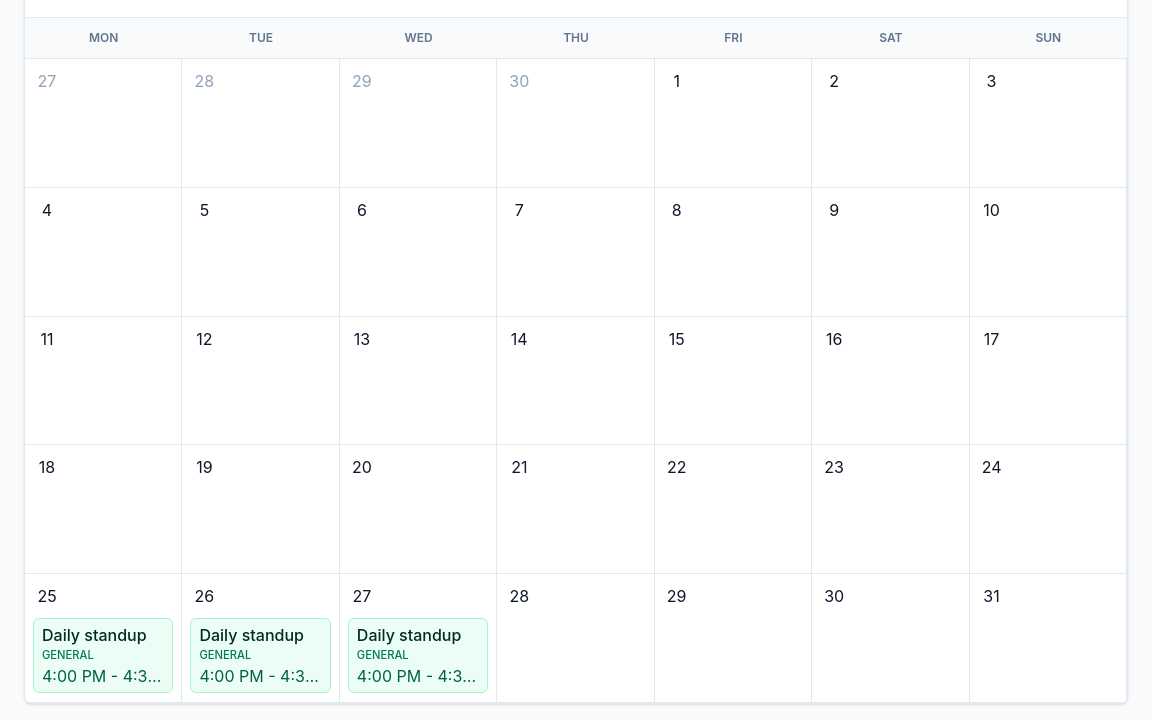
Recurring events - integration › editing this occurrence creates an exception without changing the full series
(page scrolled)
Step 1. Click the button with aria-label "Edit event Daily standup" → (103, 656), box 33,618 -> 173,693
(page scrolled)
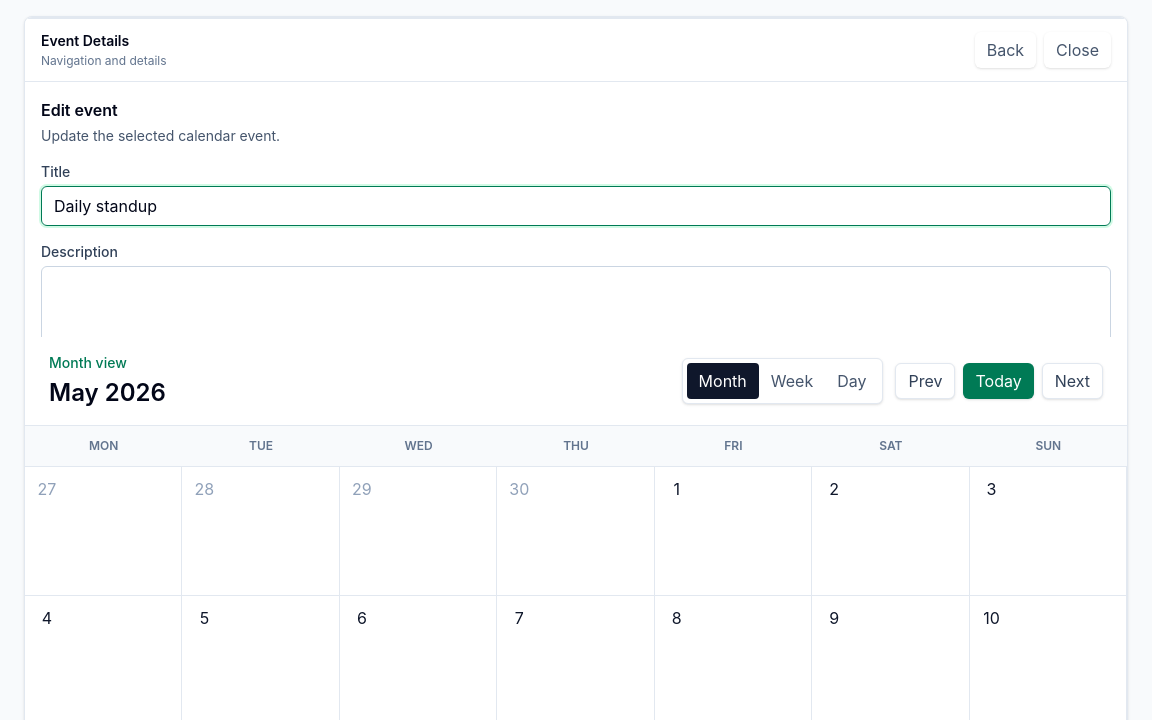
Step 2. Replace the text in the field labelled "Title" with "One-off standup" → (576, 206), box 41,186 -> 1111,226
(page scrolled)
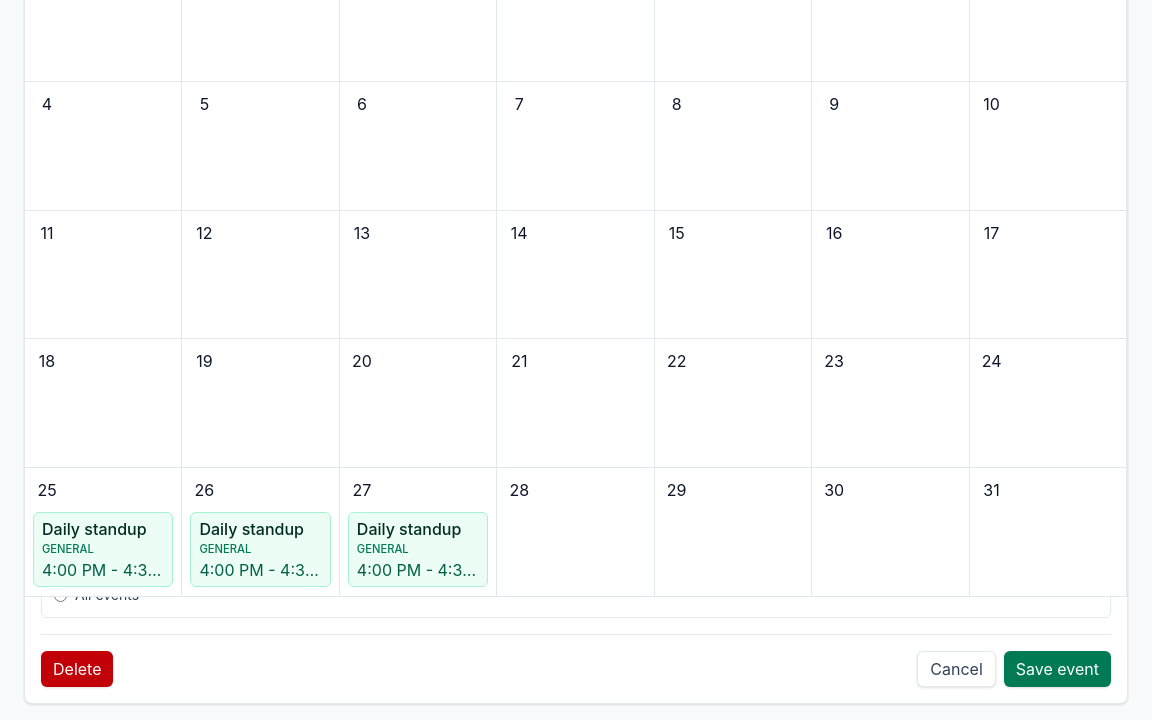
Step 3. Click the button "Save event" → (1057, 669), box 1004,651 -> 1111,687
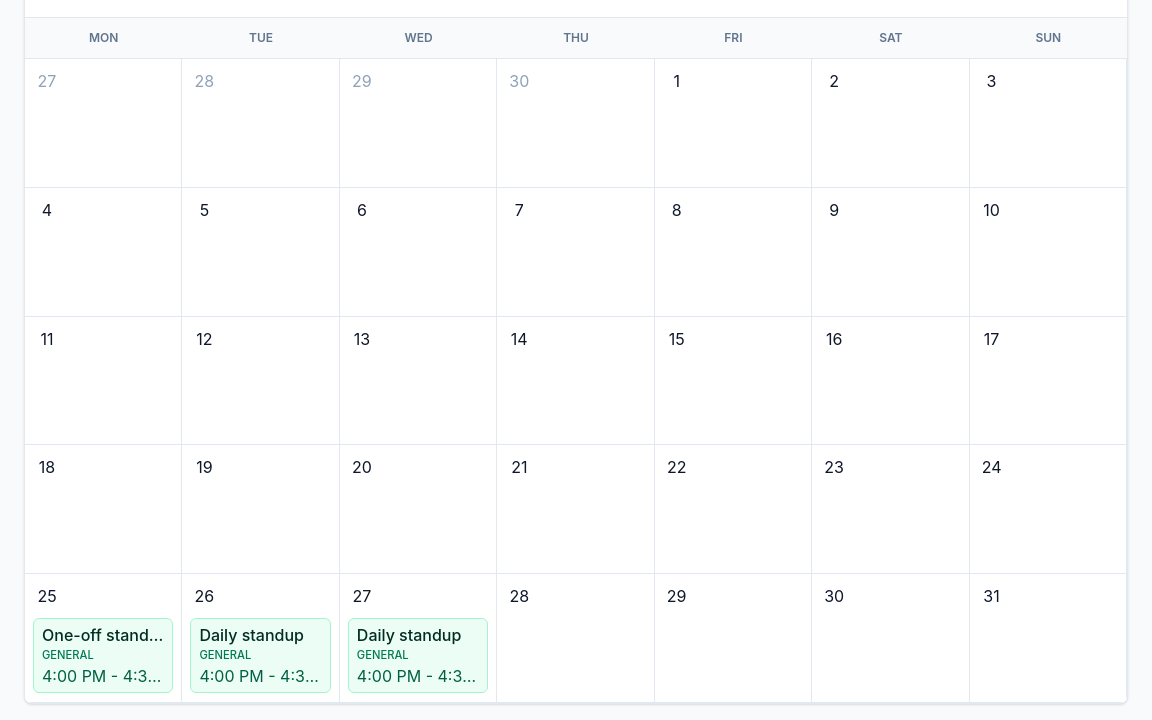
Expected: the button with aria-label "Edit event One-off standup" is shown, 33,618 -> 173,693
Expected: the number of buttons named "Edit event Daily standup" is 2, 190,618 -> 331,693; 348,618 -> 488,693
